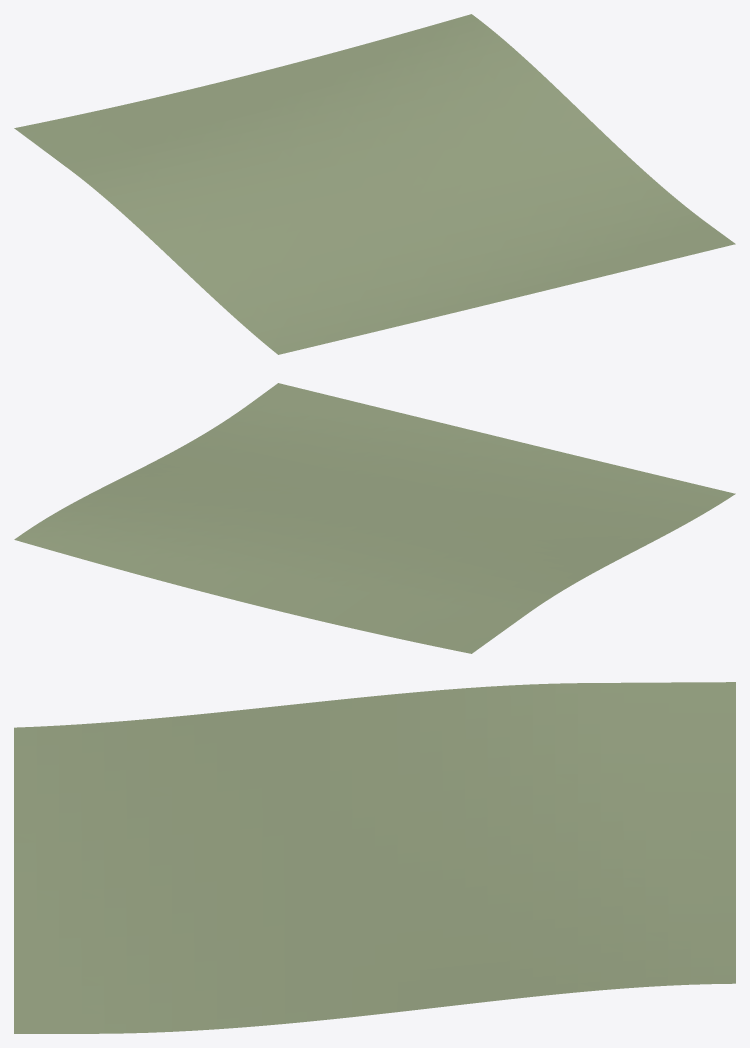
File: valley-4-7.glb
3 views of the same model, one above another, from view 1: azimuth 30°, elevation 25°; view 2: azimuth 150°, elevation 25°; view 3: azimuth 270°, elevation 25° (orthographic). The views are drawn at different scales.
Visible parts, largest first — view 1: valley-4-7; view 2: valley-4-7; view 3: valley-4-7.
Boxes of the visible parts, box(x1,y1,x2,y2) form: valley-4-7: box(14, 14, 735, 354); valley-4-7: box(14, 383, 735, 653); valley-4-7: box(14, 682, 735, 1033).
Size of the model in its own units: 256 by 19.6 by 256.
